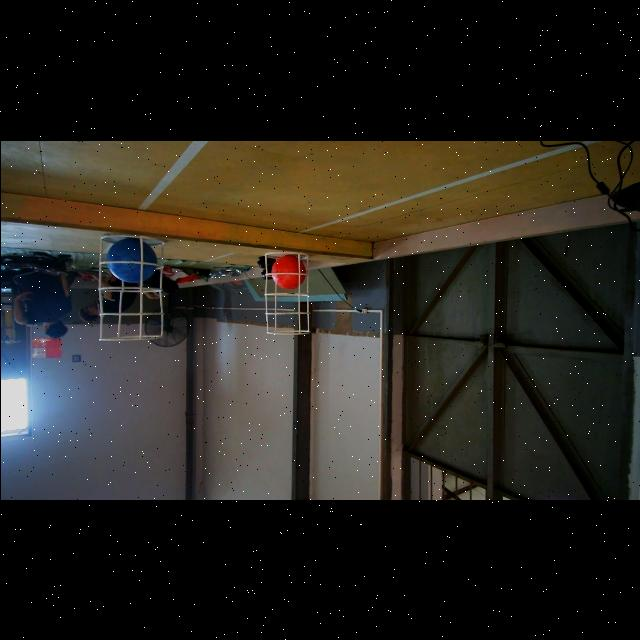B: (108, 242, 154, 282)
R: (272, 256, 306, 290)
